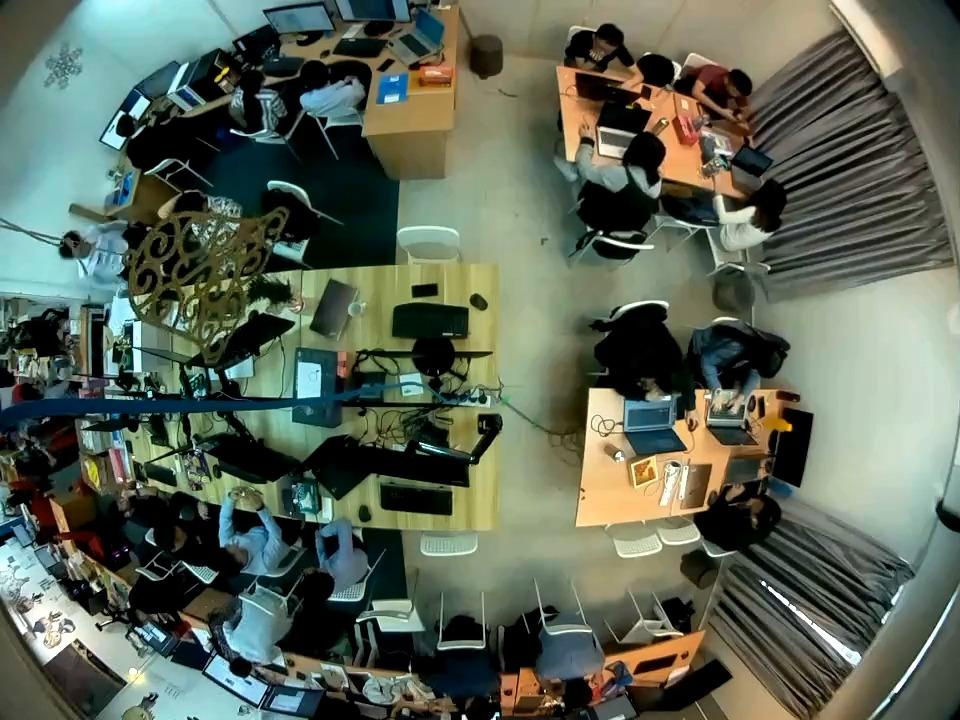name-tag: (96, 252, 102, 266)
